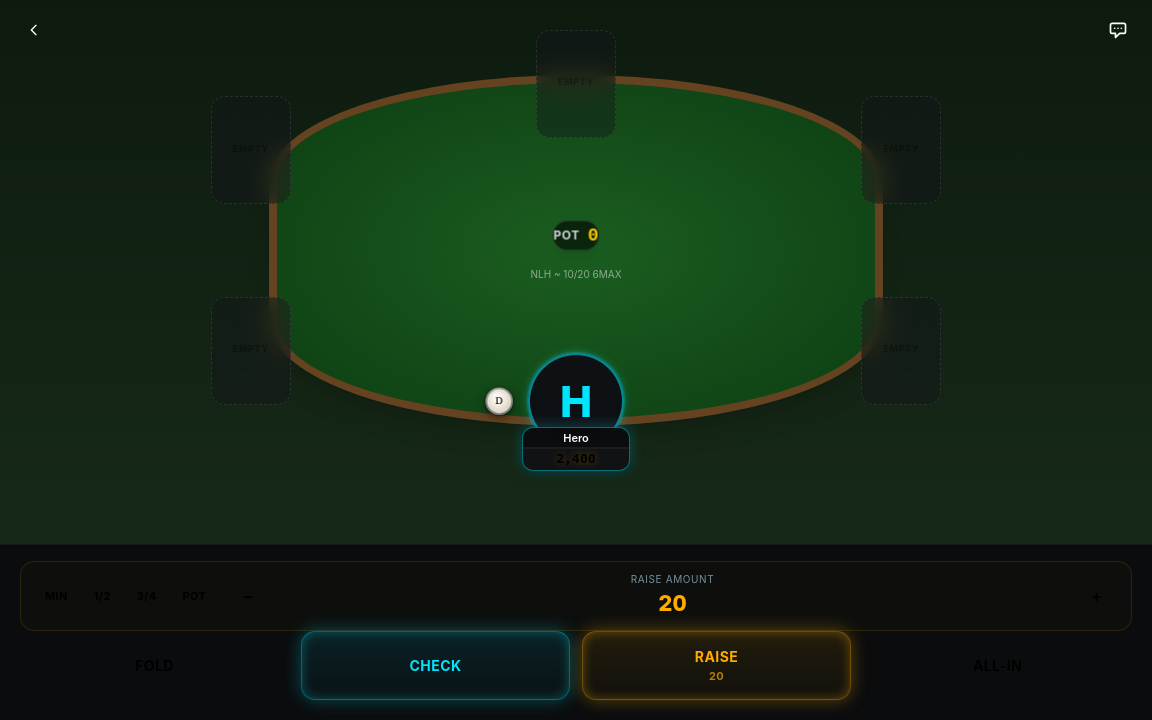
it: Scenario: leaving a table › confirming in the sheet leaves the table and closes the sheet
Click the button named "back to menu": (34, 30) 12,8 -> 56,52
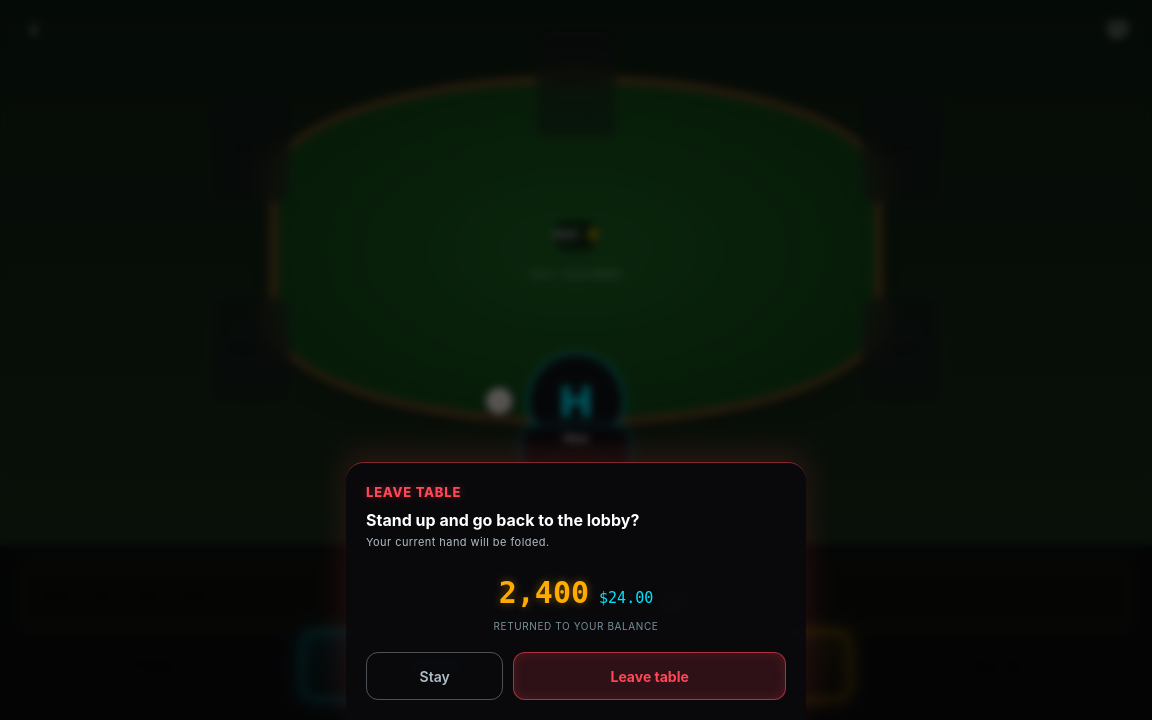
Click the button "Leave table": (650, 676) 513,652 -> 786,700
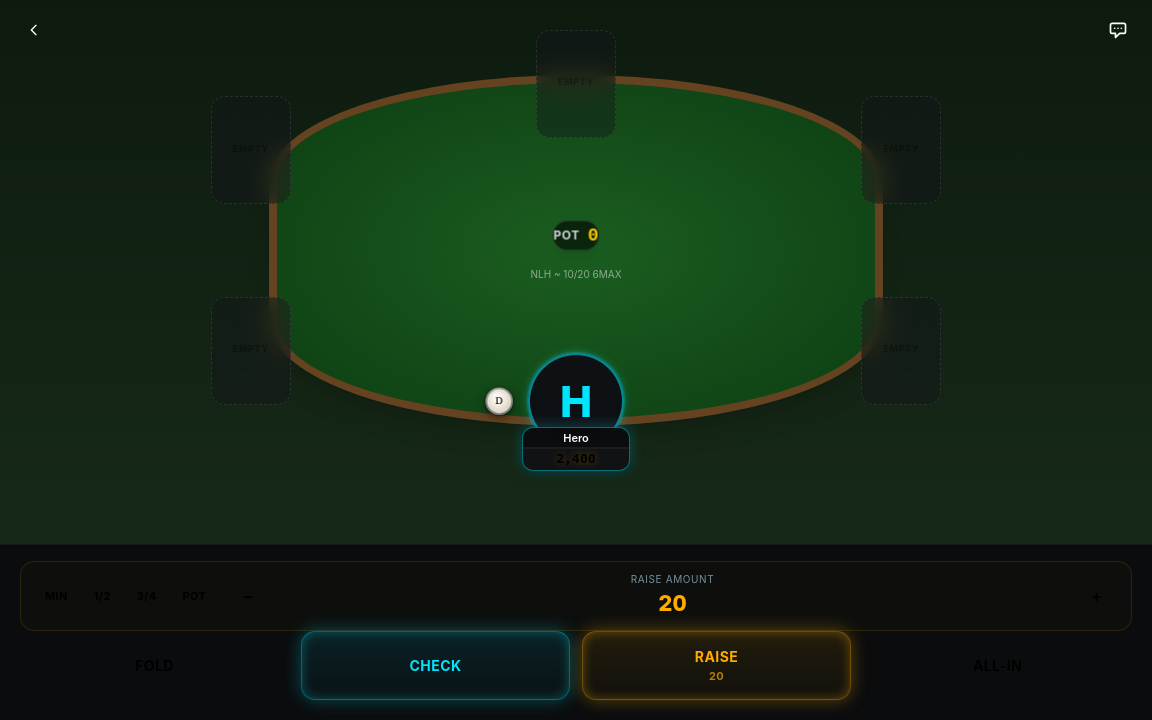
Result: the element with test id "leave-table-modal" is gone
